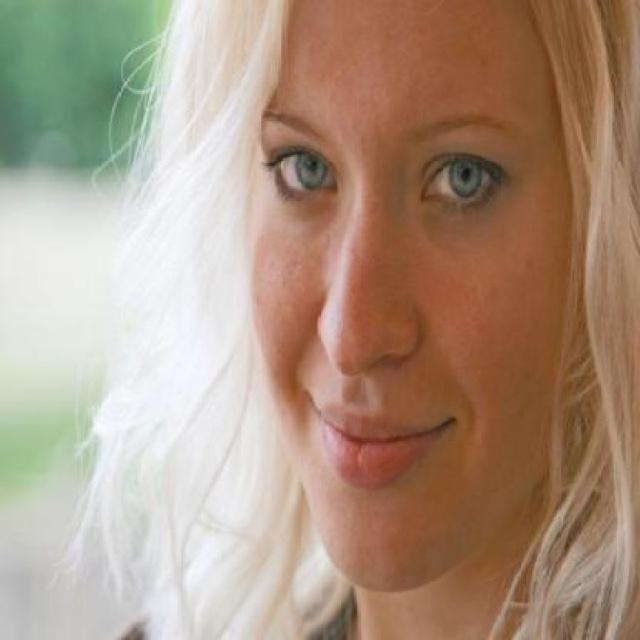awake: (272, 144, 338, 207), (423, 152, 491, 208)
